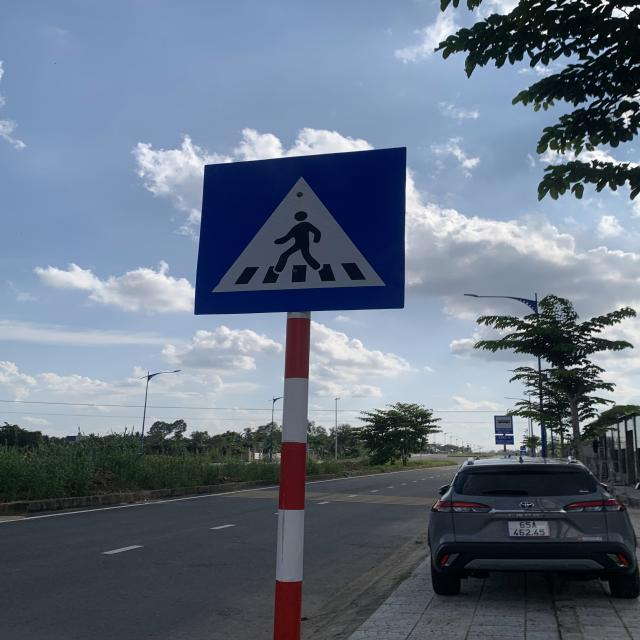Giao_Nhau_Duong_Uu_Tien: (195, 147, 408, 313)
